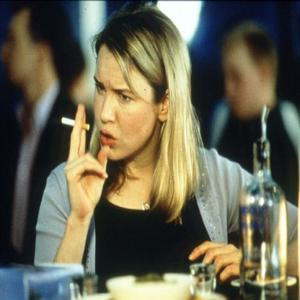cigarette: (60, 116, 91, 130)
